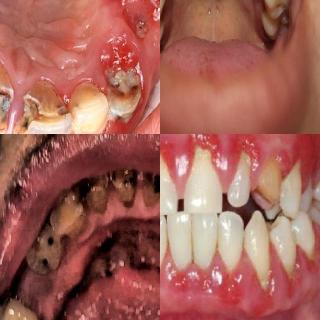Gum Swelling: (170, 134, 262, 192), (180, 253, 238, 318), (238, 249, 289, 320), (110, 0, 160, 59), (290, 241, 320, 315), (276, 134, 320, 182), (160, 253, 177, 320), (312, 209, 320, 277)
cavities: (18, 79, 68, 134), (77, 174, 109, 206), (110, 167, 136, 199), (138, 166, 160, 201), (0, 80, 14, 134)
